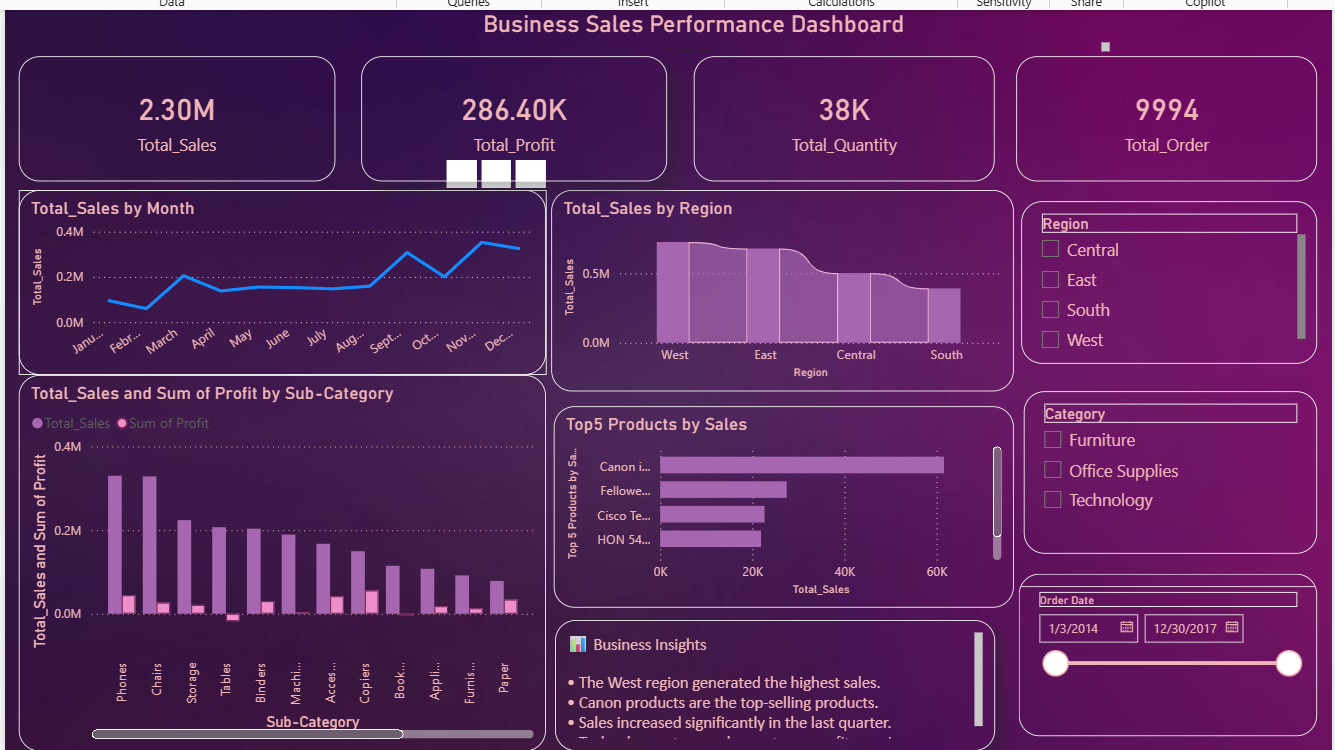

This screenshot's page, from the dashboard's own definition file:
{"tool":"powerbi","page":{"name":"Page 1","canvas":[1280,720],"ordinal":0},"visuals":[{"type":"clusteredColumnChart","fields":{"Y":["Sample - Superstore.Total_Sales","Sum(Sample - Superstore.Profit)"],"Category":["Sample - Superstore.Sub-Category"]},"box":[13.3,352.3,509.1,363.1],"z":0},{"type":"clusteredBarChart","title":"Top5 Products by Sales","fields":{"Category":["Sample - Superstore.Product Name"],"Y":["Sample - Superstore.Total_Sales"]},"box":[529.6,382.4,444,194.2],"z":1000},{"type":"textbox","title":"Business Sales Performance Dashboard","box":[258.2,0,813.1,44.6],"z":2000},{"type":"lineChart","fields":{"Category":["Sample - Superstore.Order Date.Variation.Date Hierarchy.Month"],"Y":["Sample - Superstore.Total_Sales"]},"box":[13.3,173.7,509.1,178.6],"z":3000},{"type":"ribbonChart","fields":{"Category":["Sample - Superstore.Region"],"Y":["Sample - Superstore.Total_Sales"]},"box":[527.2,173.7,446.4,194.2],"z":4000},{"type":"slicer","fields":{"Values":["Sample - Superstore.Region"]},"box":[980.8,184.6,285.9,156.8],"z":5000},{"type":"slicer","fields":{"Values":["Sample - Superstore.Category"]},"box":[983.2,368,283.5,156.8],"z":6000},{"type":"slicer","fields":{"Values":["Sample - Superstore.Order Date"]},"box":[978.4,544.1,288.3,156.8],"z":7000},{"type":"card","fields":{"Values":["Sample - Superstore.Total_Quantity"]},"box":[664.7,44.6,290.8,120.6],"z":8000},{"type":"card","fields":{"Values":["Sample - Superstore.Total_Profit"]},"box":[343.8,44.6,295.6,120.6],"z":9000},{"type":"card","fields":{"Values":["Sample - Superstore.Total_Sales"]},"box":[13.3,44.6,305.2,120.6],"z":10000},{"type":"card","fields":{"Values":["Sample - Superstore.Total_Order"]},"box":[976,44.6,290.8,120.6],"z":11000},{"type":"textbox","box":[530.8,588.7,424.7,126.7],"z":11001}]}

Visuals, with their boxes in screenshot pixels (x1, y1, x2, y2):
clusteredColumnChart - Sample - Superstore.Total_Sales x Sum(Sample - Superstore.Profit): <bbox>17, 369, 541, 743</bbox>
"Top5 Products by Sales" clusteredBarChart: <bbox>548, 400, 1005, 600</bbox>
"Business Sales Performance Dashboard" textbox: <bbox>269, 7, 1105, 53</bbox>
lineChart - Sample - Superstore.Order Date.Variation.Date Hierarchy.Month x Sample - Superstore.Total_Sales: <bbox>17, 186, 541, 369</bbox>
ribbonChart - Sample - Superstore.Region x Sample - Superstore.Total_Sales: <bbox>546, 186, 1005, 385</bbox>
slicer - Sample - Superstore.Region: <bbox>1012, 197, 1306, 358</bbox>
slicer - Sample - Superstore.Category: <bbox>1015, 385, 1306, 547</bbox>
slicer - Sample - Superstore.Order Date: <bbox>1010, 567, 1306, 728</bbox>
card - Sample - Superstore.Total_Quantity: <bbox>687, 53, 986, 177</bbox>
card - Sample - Superstore.Total_Profit: <bbox>357, 53, 661, 177</bbox>
card - Sample - Superstore.Total_Sales: <bbox>17, 53, 331, 177</bbox>
card - Sample - Superstore.Total_Order: <bbox>1007, 53, 1306, 177</bbox>
textbox: <bbox>549, 612, 986, 743</bbox>
